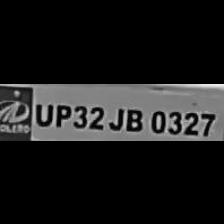0: (148, 106, 166, 132)
2: (85, 103, 105, 132), (181, 107, 199, 134)
3: (70, 100, 86, 130), (166, 106, 182, 134)
7: (196, 110, 216, 136)
B: (122, 104, 144, 132)
J: (105, 102, 123, 130)
P: (52, 101, 72, 128)
U: (32, 100, 52, 126)
